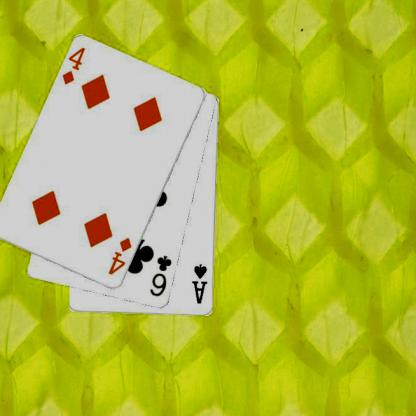4D: (106, 234, 134, 276), (59, 44, 87, 86)
6C: (147, 253, 174, 298)
AS: (190, 262, 209, 306)
